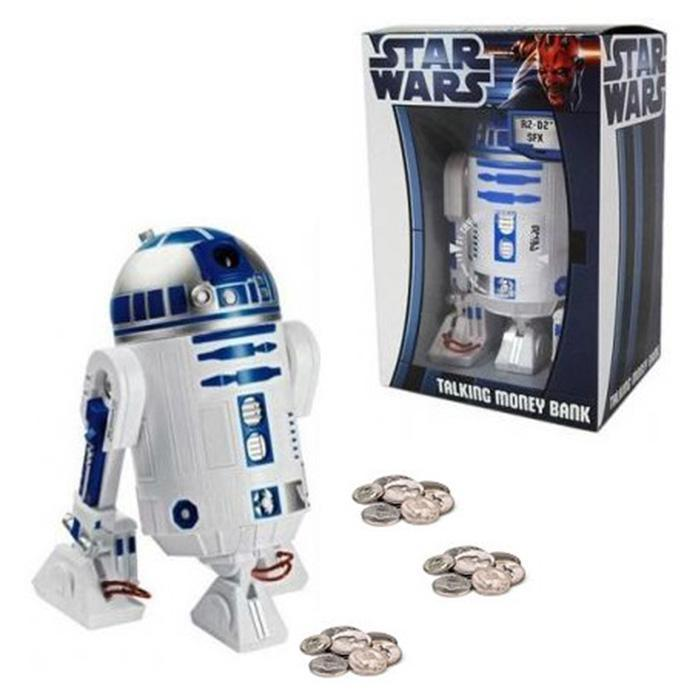r2d2: (42, 227, 315, 632)
